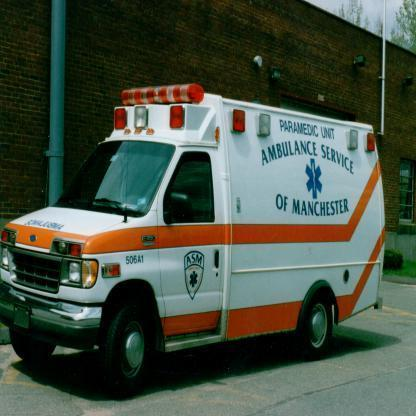Ambulance: (298, 158, 328, 200)
